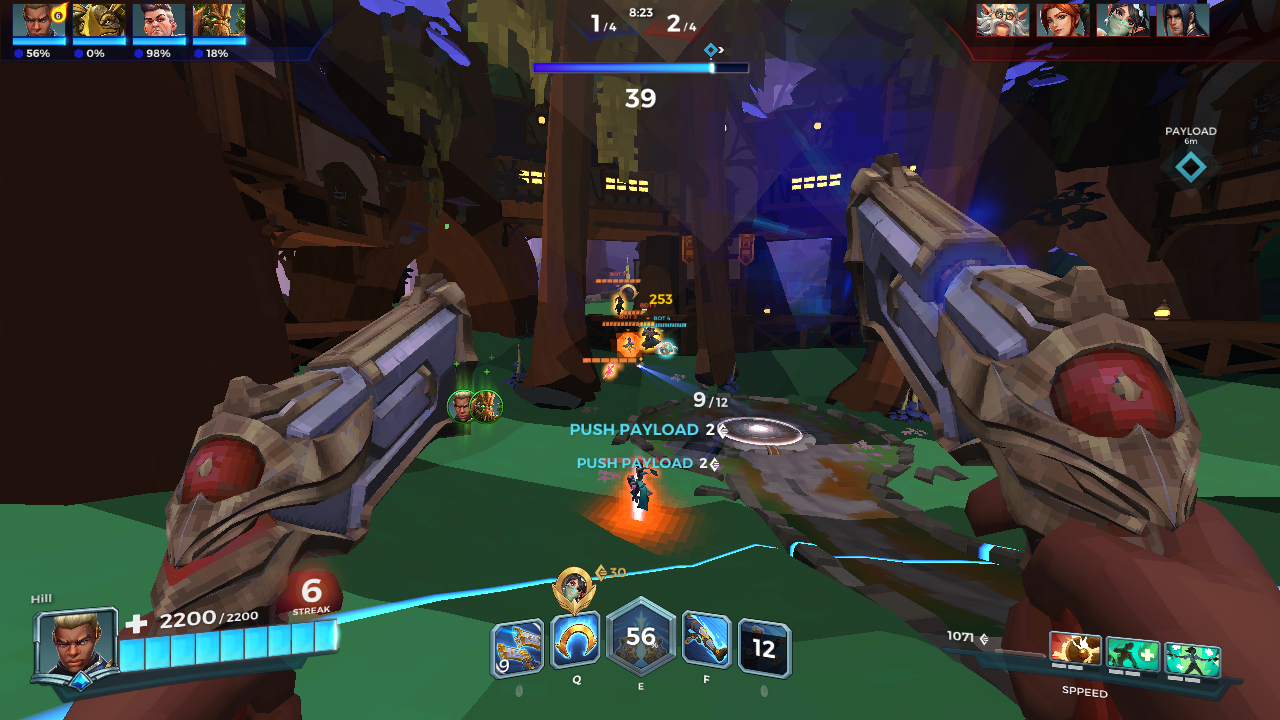model: (640, 325, 662, 355), (613, 291, 627, 319), (623, 334, 634, 355)
